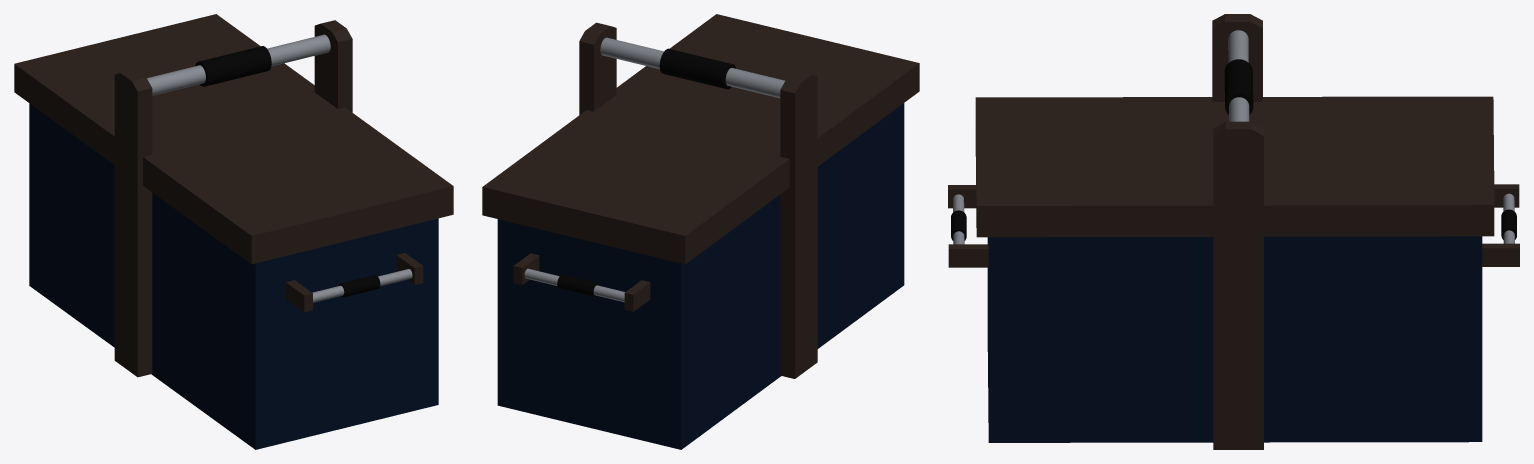
Rendered from F_Chest_02.fbx.
The picture shows the model from 3 angles, left to right: view 1: azimuth 30°, elevation 25°; view 2: azimuth 150°, elevation 25°; view 3: azimuth 270°, elevation 25°; orthographic projection. The views are drawn at different scales.
Visible parts, largest first — view 1: F_Chest_02; view 2: F_Chest_02; view 3: F_Chest_02.
Part boxes in pixels (bbox=[...]): F_Chest_02: bbox=[14, 14, 453, 449]; F_Chest_02: bbox=[482, 14, 919, 449]; F_Chest_02: bbox=[948, 14, 1519, 449].
Bounding box in the file's own units: 25.44 × 33.11 × 53.24.
